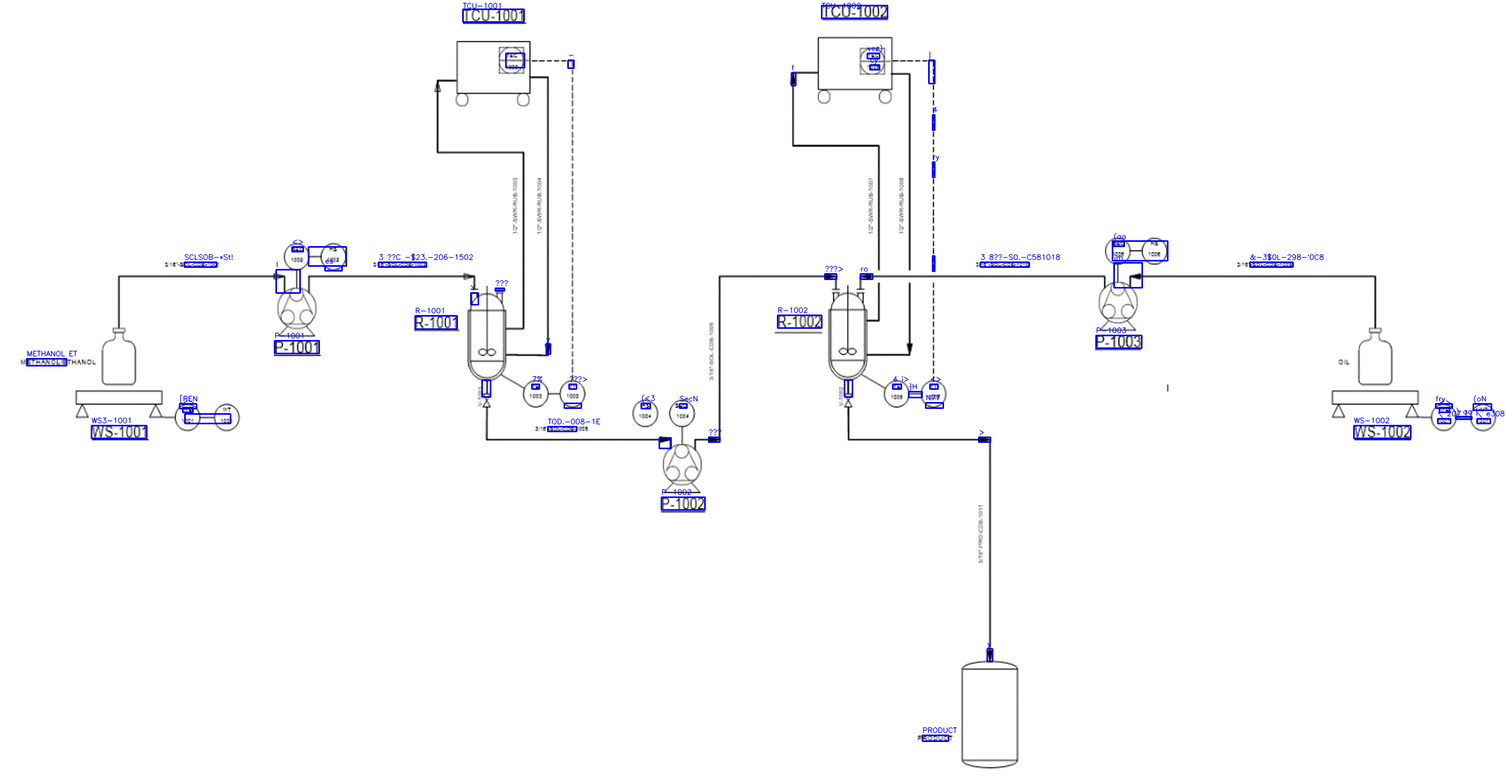Instrumento: (882, 379, 912, 409), (631, 399, 660, 428), (919, 380, 948, 409), (318, 242, 348, 270), (522, 379, 550, 409), (559, 378, 586, 408)
Misturador: (837, 282, 858, 357), (478, 282, 497, 359)
Outro: (812, 32, 896, 104), (452, 36, 534, 109), (74, 387, 168, 421), (273, 284, 322, 341), (661, 442, 705, 495), (668, 399, 696, 429), (282, 241, 310, 270)
Tanque: (957, 658, 1022, 770), (826, 290, 871, 383), (466, 286, 508, 385)
Vaso: (100, 324, 138, 385)
Válvula: (479, 389, 493, 411)
